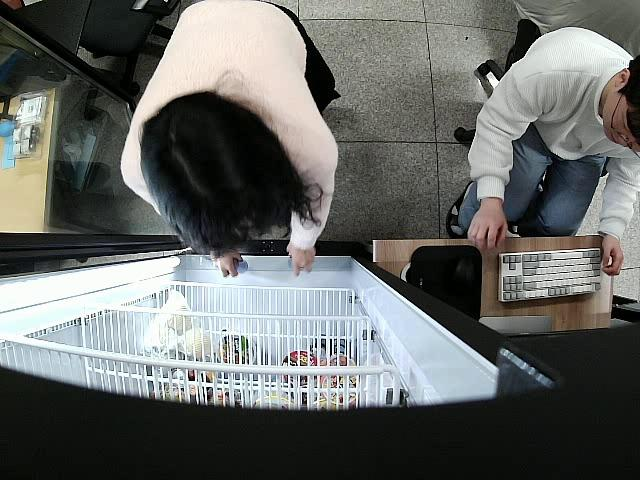00_hand: (468, 201, 509, 254), (287, 241, 317, 276), (603, 233, 624, 277), (212, 250, 243, 277)
